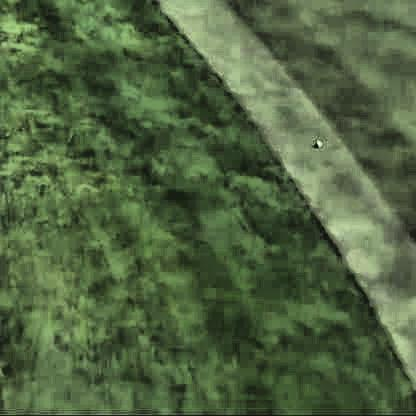golfball: (309, 137, 319, 147)
